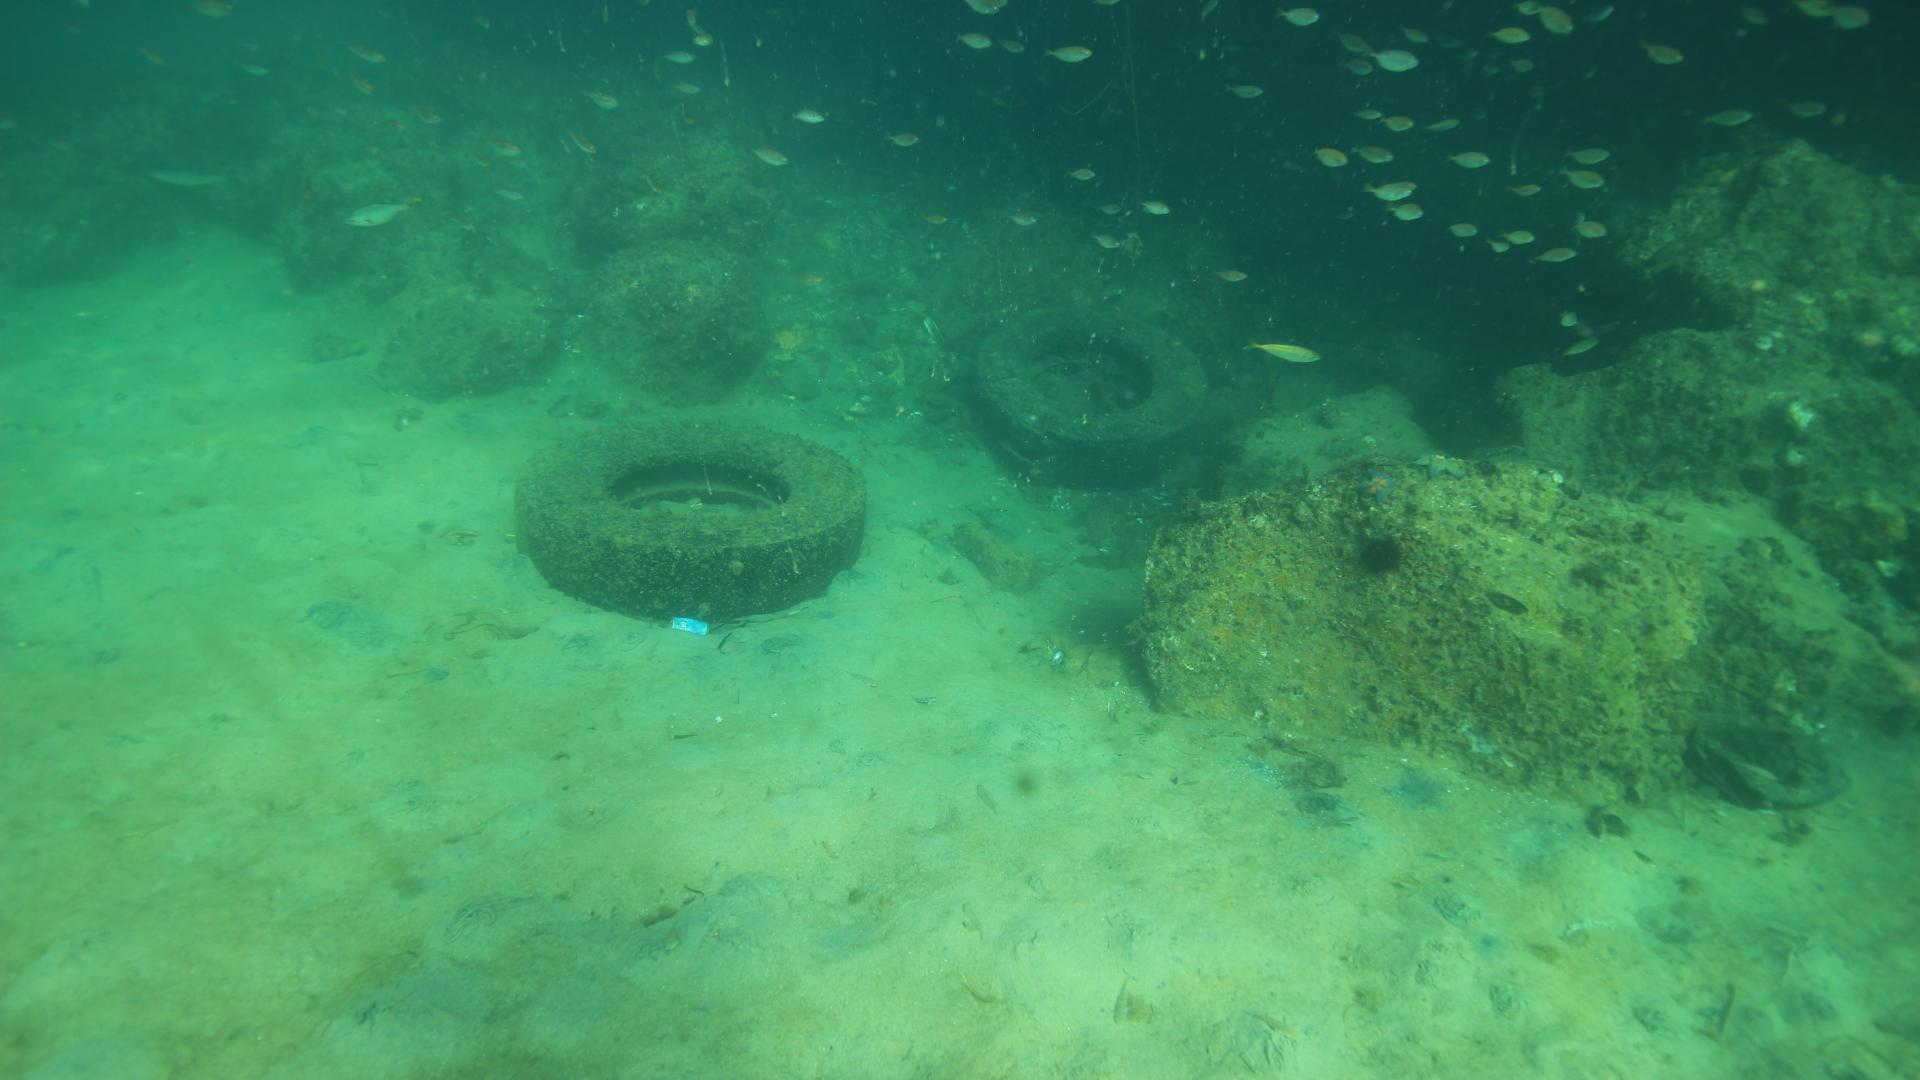tire: (512, 411, 866, 622), (967, 299, 1216, 491)
